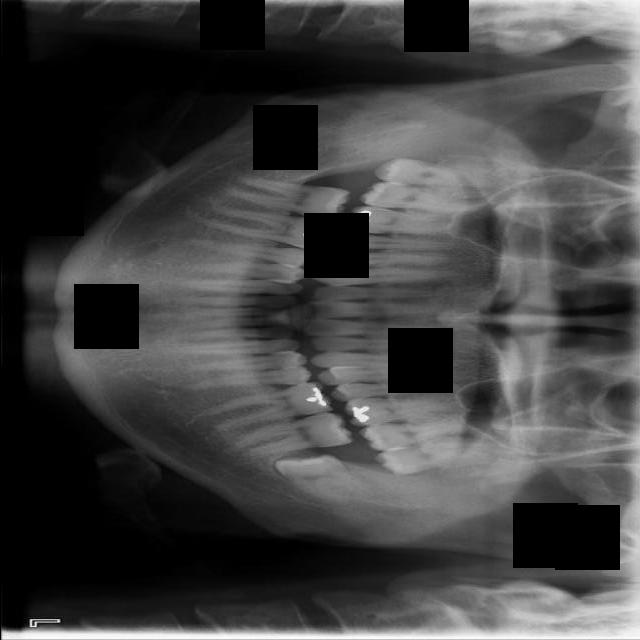3M ESPE Implant: (373, 157, 494, 189)
52: (283, 377, 333, 421), (284, 211, 332, 254), (342, 395, 397, 428), (345, 204, 399, 236)
73: (32, 598, 46, 604)
BioHorizons Implant: (358, 420, 488, 452)
BioLife Implant: (373, 436, 497, 478)
Biomet 3i Implant: (271, 432, 368, 516)
Blue Sky Bio Implant: (230, 409, 353, 460)
Caries: (357, 180, 487, 213)
Implant: (221, 173, 351, 223)
